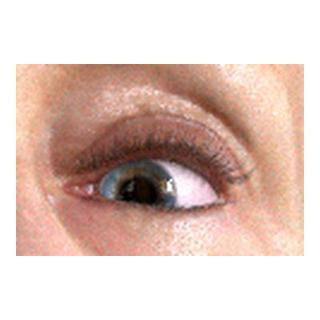pupil: (119, 177, 157, 215)
